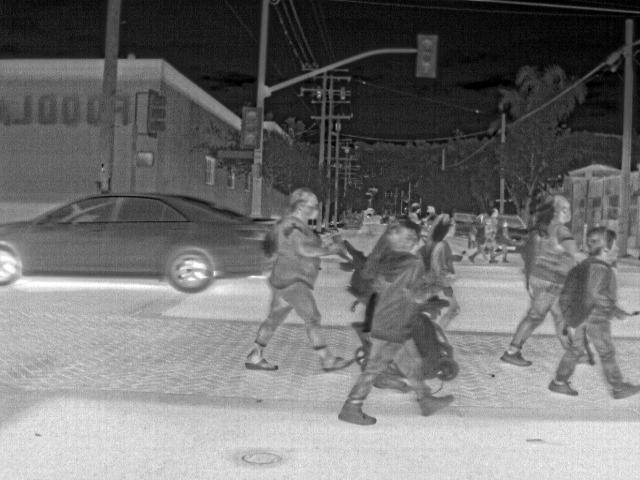car: (34, 192, 277, 294), (512, 212, 530, 242), (455, 212, 475, 238), (344, 214, 364, 230), (472, 213, 484, 226), (380, 216, 388, 225), (366, 211, 373, 218)
person: (549, 224, 640, 398), (360, 221, 428, 427), (271, 185, 335, 372), (511, 193, 575, 367), (426, 211, 455, 335), (486, 207, 501, 264), (499, 218, 512, 264), (474, 225, 487, 262), (423, 203, 440, 228), (407, 201, 423, 223)
